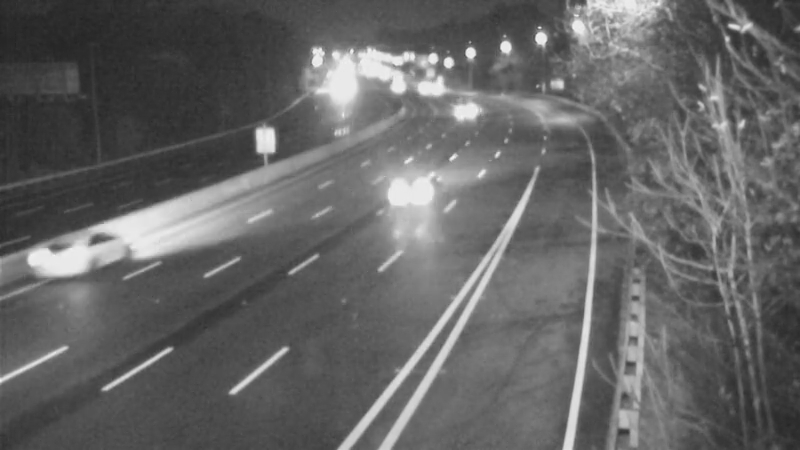vehicle: (379, 145, 459, 225), (19, 216, 99, 296), (436, 81, 486, 131)
